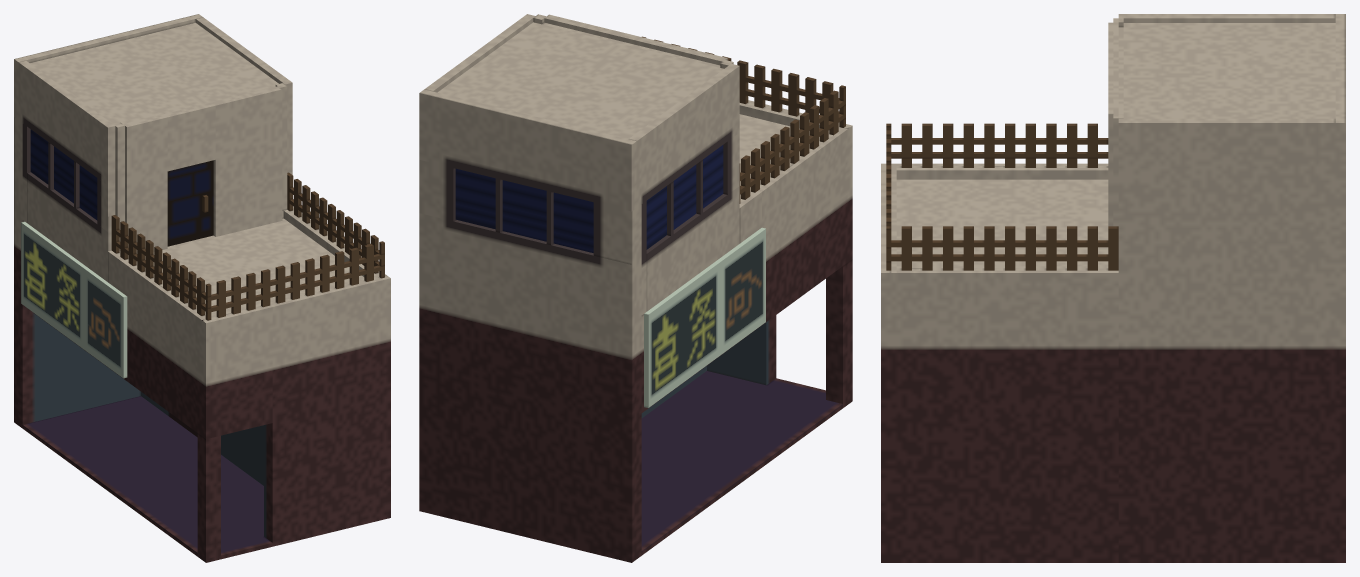
Rendered from ch_big_bud_resta_2.dae.
The picture shows the model from 3 angles, left to right: view 1: azimuth 30°, elevation 25°; view 2: azimuth 150°, elevation 25°; view 3: azimuth 270°, elevation 25°; orthographic projection. The views are drawn at different scales.
Parts seen in each view (by area): view 1: Content; view 2: Content; view 3: Content.
Boxes of the visible parts, box(x1,y1,x2,y2) form: Content: box(14, 14, 390, 562); Content: box(419, 14, 852, 562); Content: box(881, 14, 1345, 562).
Size of the model in its own units: 51 by 94 by 90.
Materials: 1 (1 with a texture image).
